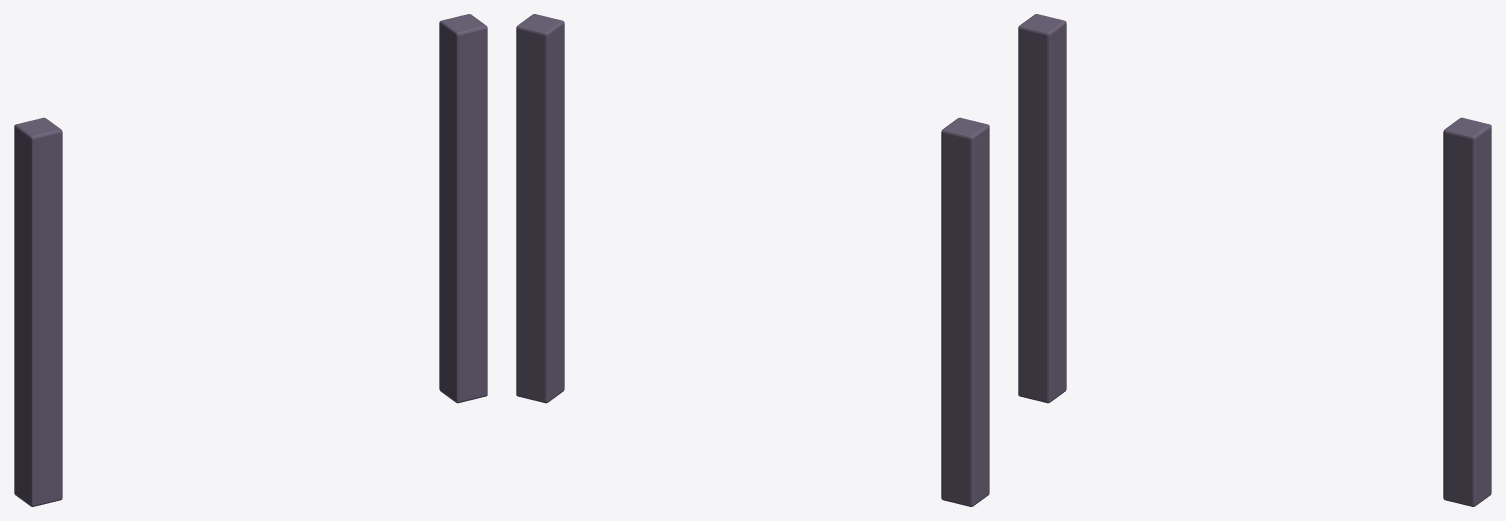
Rendered from BannerPosts_Stone.fbx.
3 renders of one model, left to right at view 1: azimuth 30°, elevation 25°; view 2: azimuth 150°, elevation 25°; view 3: azimuth 330°, elevation 25°, orthographic.
Parts seen in each view (by area): view 1: BannerPost-1.001; view 2: BannerPost-1.001; view 3: BannerPost-1.001.
Part boxes in pixels (x1,y1,x2,y2): BannerPost-1.001: (14, 14, 487, 506); BannerPost-1.001: (516, 14, 989, 506); BannerPost-1.001: (1018, 14, 1491, 506).
Bounding box in the file's own units: 6450 × 5000 × 450.
